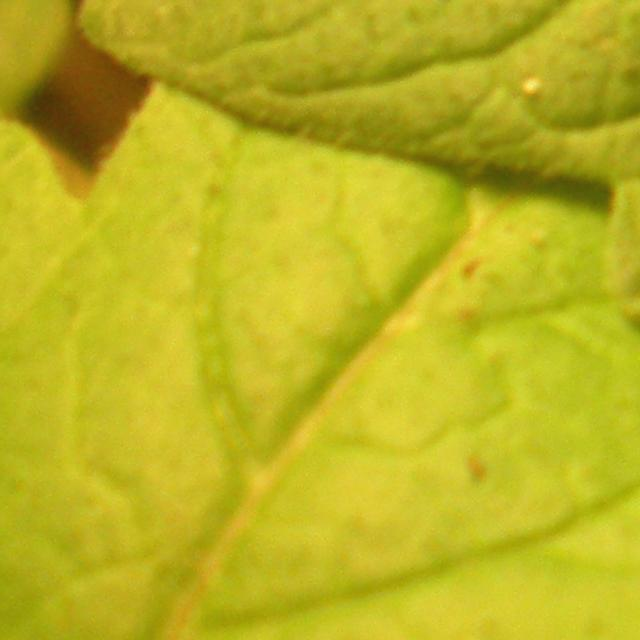Tomato leaf: (66, 0, 640, 425)
